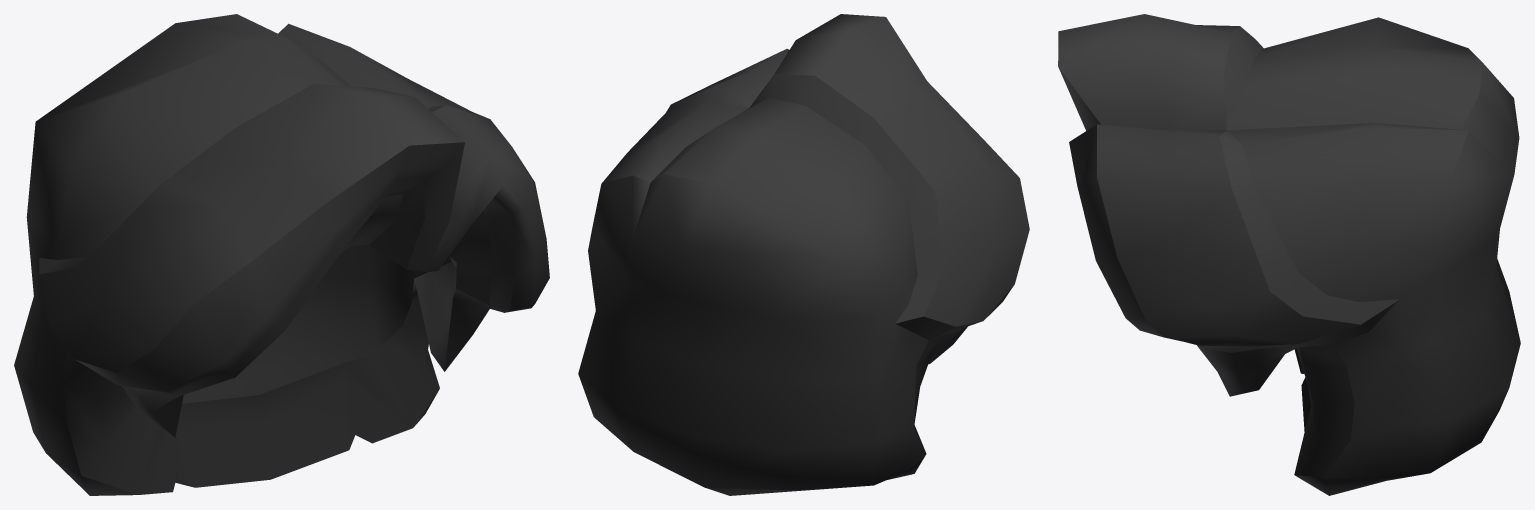
File: Hair_Black_5.fbx
The picture shows the model from 3 angles, left to right: view 1: azimuth 30°, elevation 25°; view 2: azimuth 150°, elevation 25°; view 3: azimuth 270°, elevation 25°; orthographic projection. The views are drawn at different scales.
Parts seen in each view (by area): view 1: Hair_Black_5; view 2: Hair_Black_5; view 3: Hair_Black_5.
Part boxes in pixels (x1,y1,x2,y2): Hair_Black_5: [14, 14, 549, 495]; Hair_Black_5: [578, 14, 1029, 495]; Hair_Black_5: [1058, 14, 1520, 495].
Bounding box in the file's own units: 67.62 × 68.28 × 65.32.
